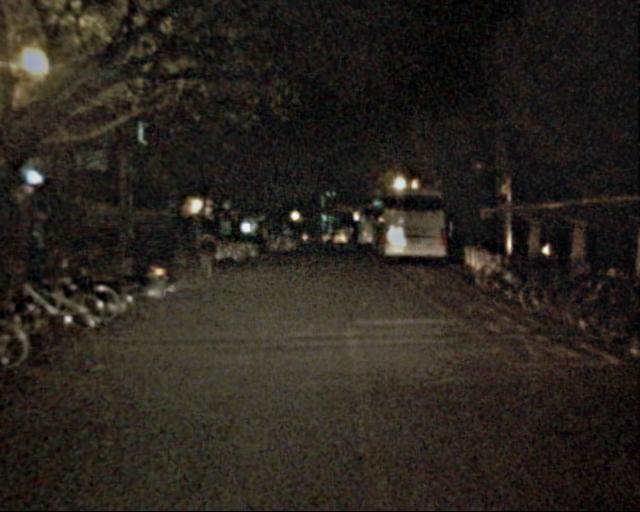person: (133, 225, 160, 292), (194, 221, 218, 279), (251, 220, 268, 261), (340, 227, 360, 250)
